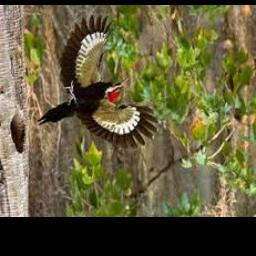Woodpecker: (38, 17, 162, 151)
